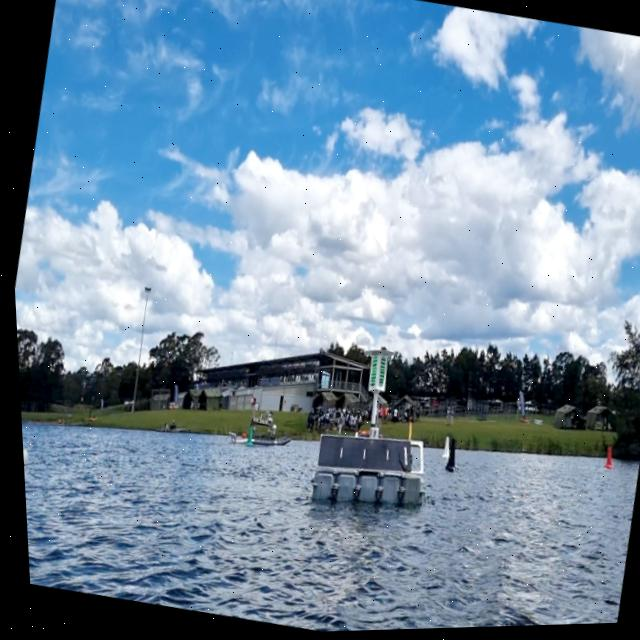led: (371, 357, 385, 391), (363, 358, 377, 389)
